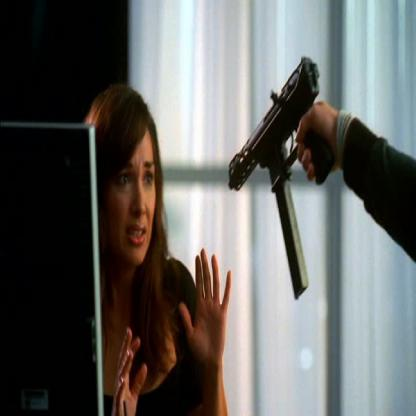Gun: (225, 46, 334, 300)
